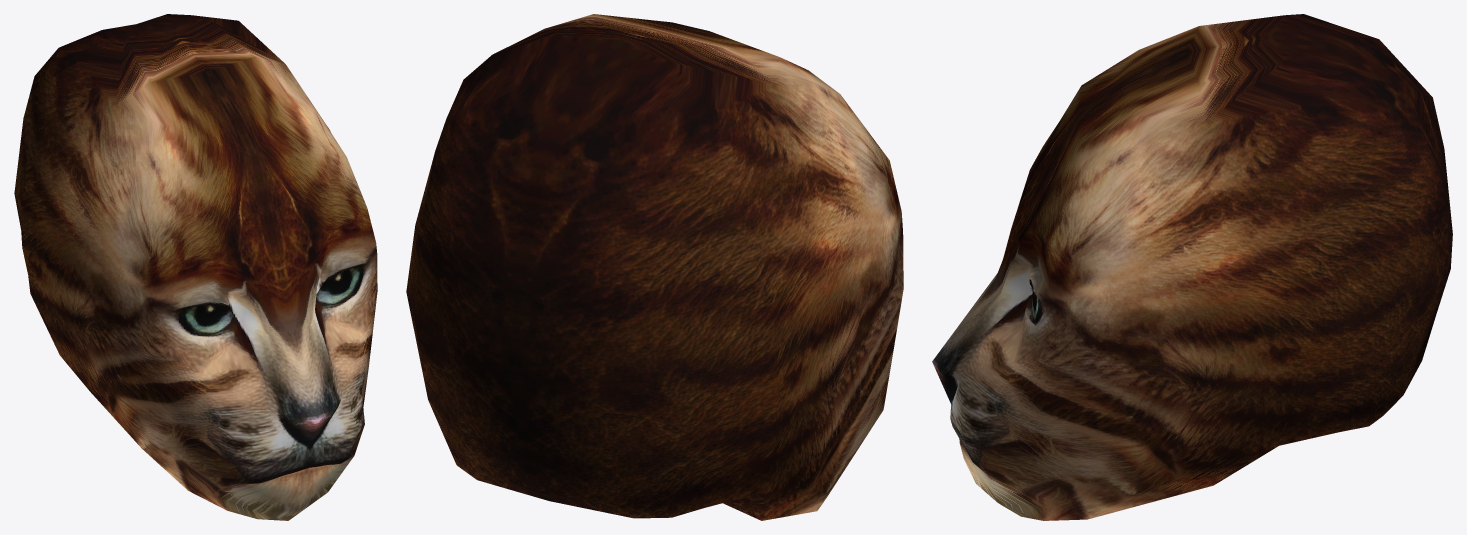
Rendered from b_n_khajiit_f_head_01.glb.
The picture shows the model from 3 angles, left to right: view 1: azimuth 30°, elevation 25°; view 2: azimuth 150°, elevation 25°; view 3: azimuth 270°, elevation 25°; orthographic projection. The views are drawn at different scales.
Parts seen in each view (by area): view 1: Tri B_N_Khajiit_F_Head_01; view 2: Tri B_N_Khajiit_F_Head_01; view 3: Tri B_N_Khajiit_F_Head_01.
Boxes of the visible parts, x1,y1,x2,y2 form: Tri B_N_Khajiit_F_Head_01: (14, 14, 377, 520); Tri B_N_Khajiit_F_Head_01: (406, 14, 903, 520); Tri B_N_Khajiit_F_Head_01: (932, 14, 1452, 520).
Size of the model in its own units: 0.0988 by 0.1445 by 0.1454.
Materials: 1 (1 with a texture image).
